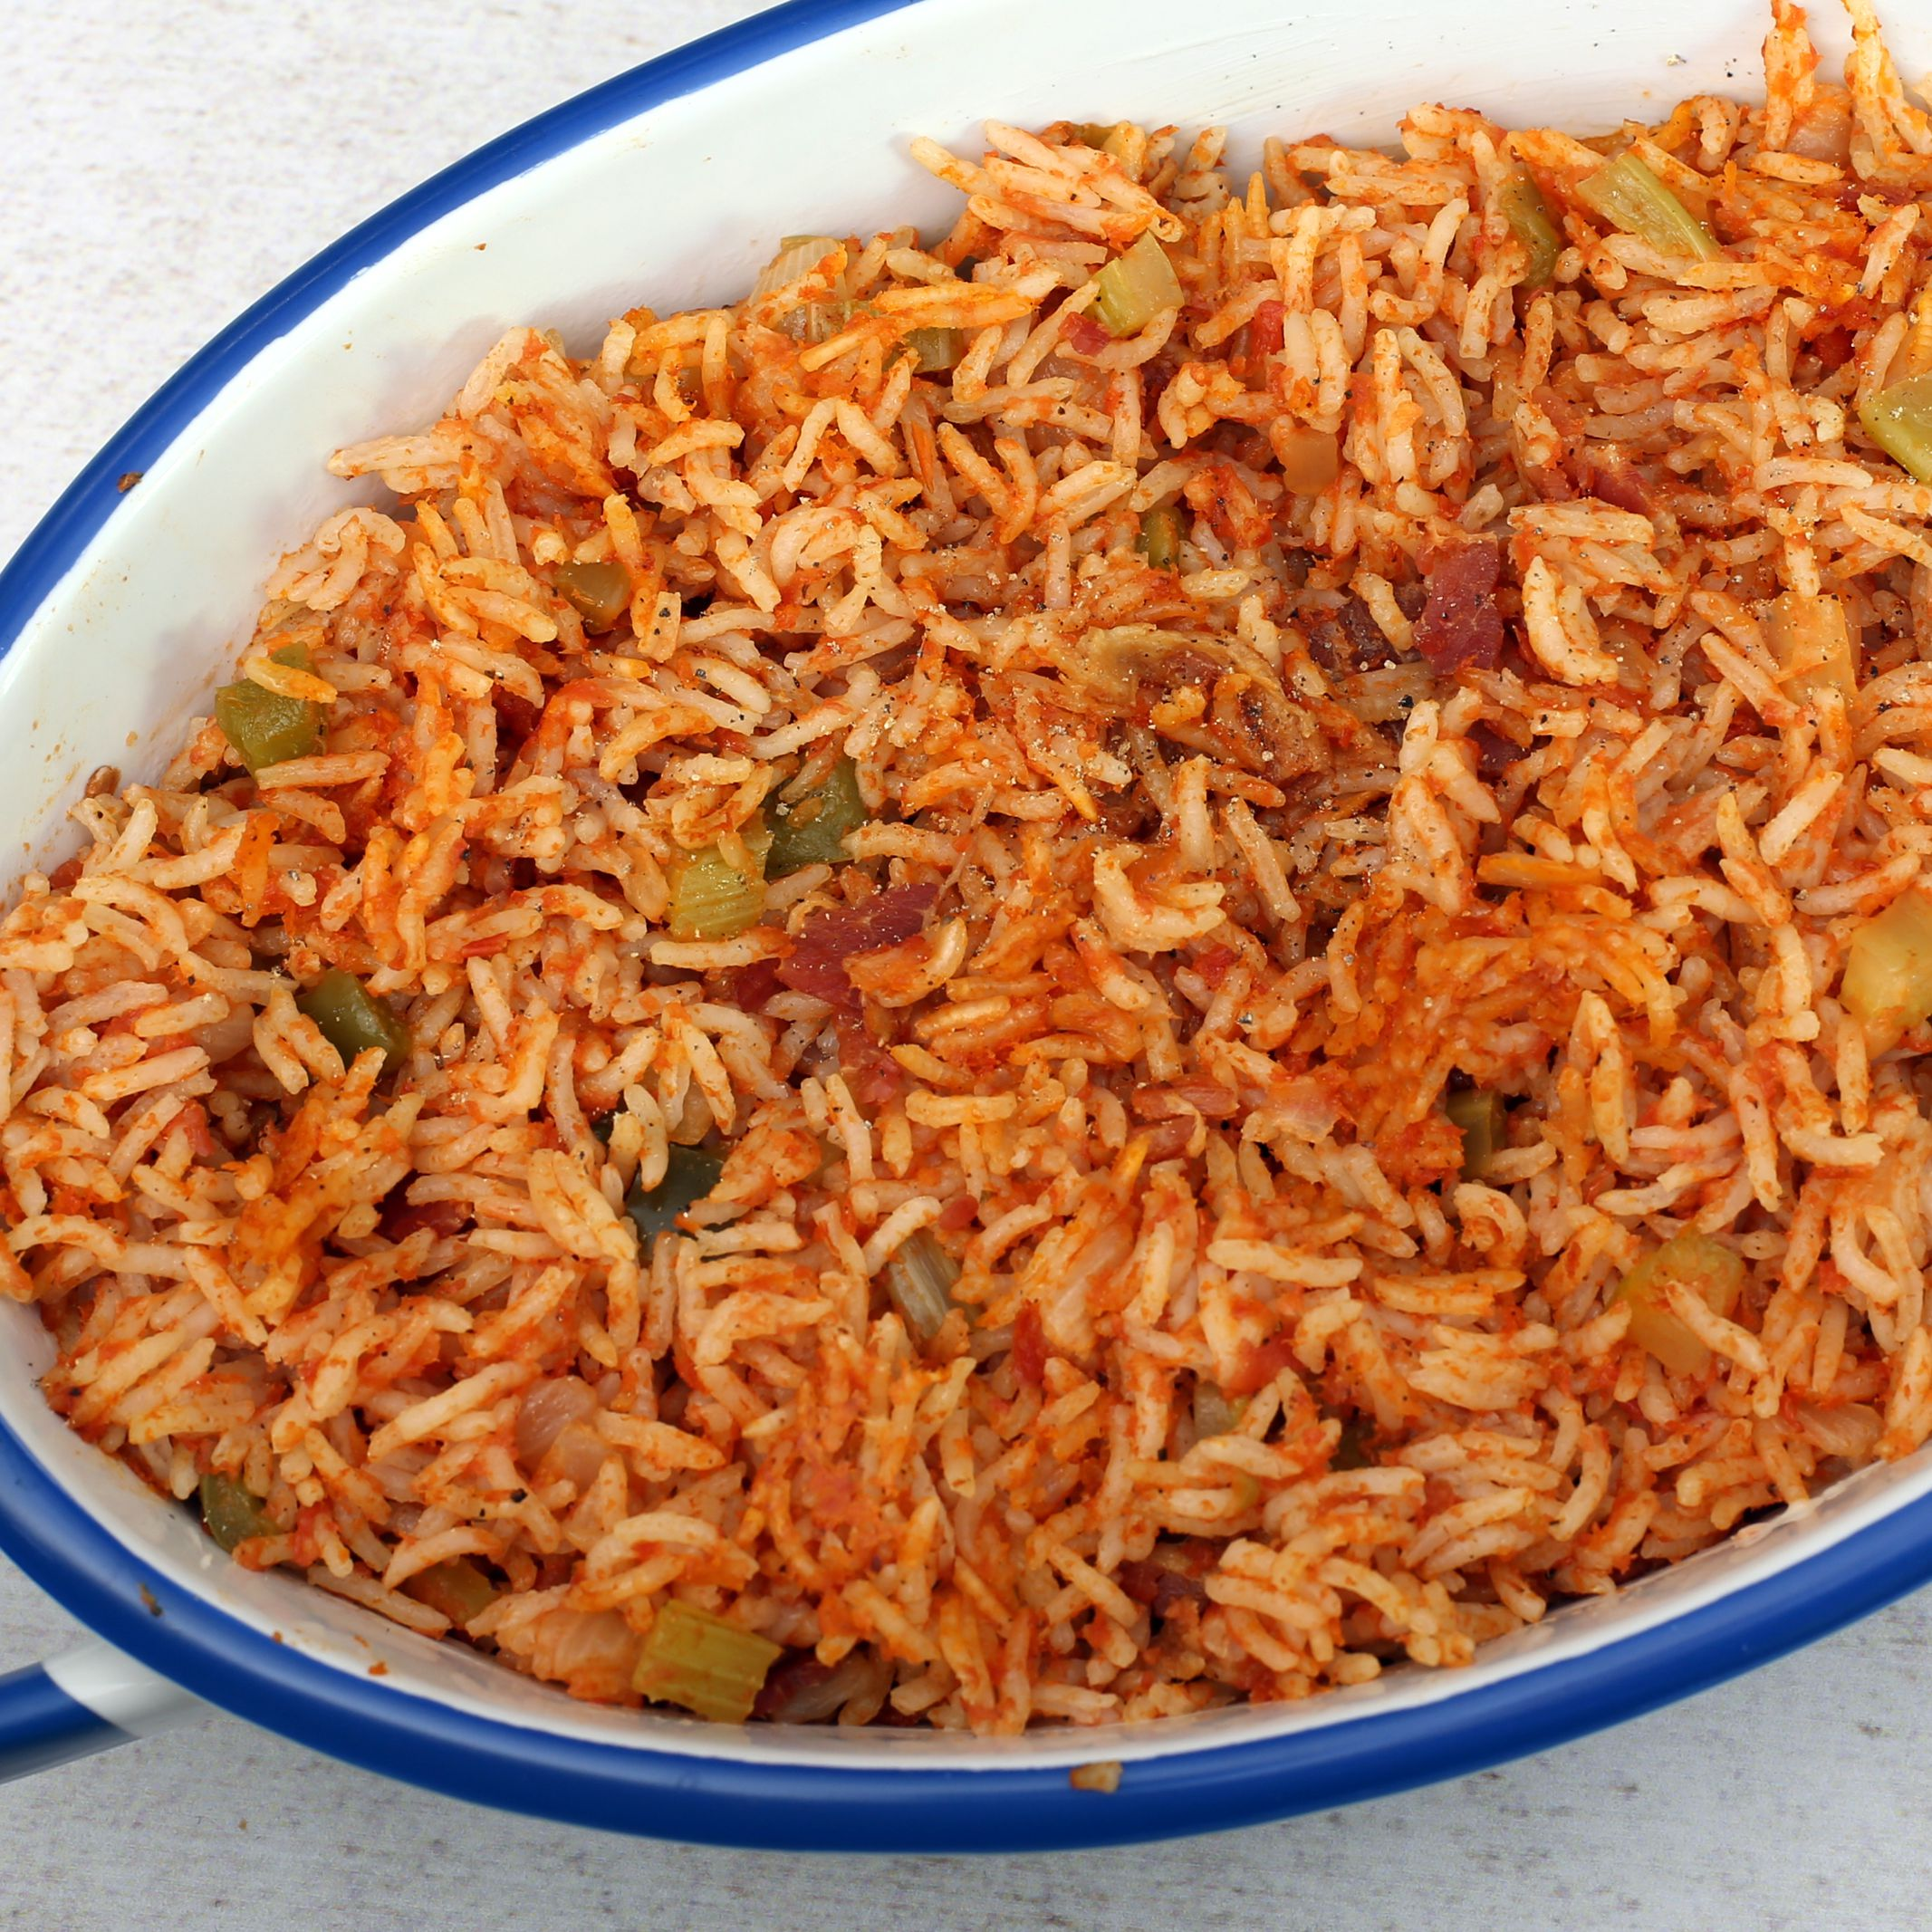Nasi Merah: (14, 37, 1932, 1702)
